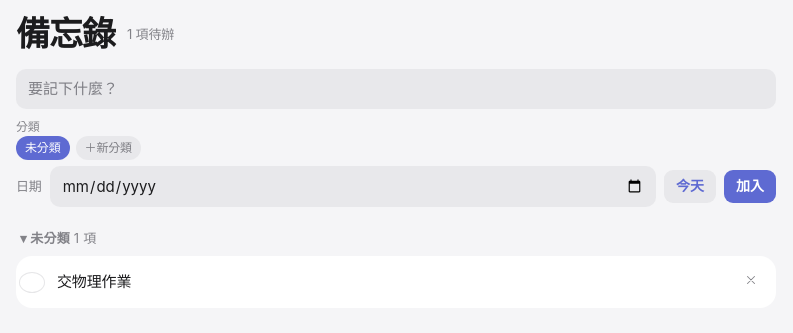
Test: 備忘錄刪除失敗復原 › DELETE 失敗後重讀仍存在時，項目不會假消失
This screenshot has width=793, height=333.
Click the button named "刪除「交物理作業」" at [751, 282], box [742,269,760,295]
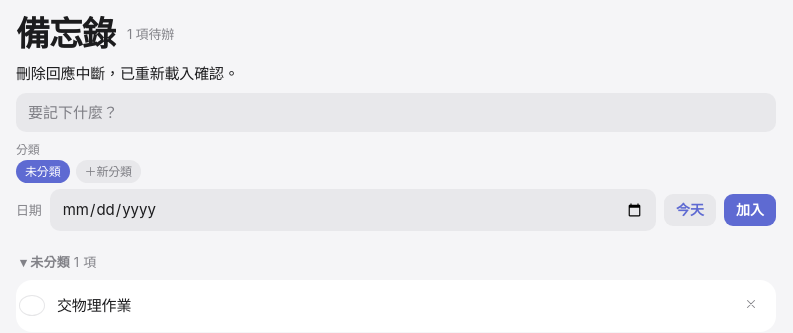
Expected: the text "交物理作業" is shown, [57,296,131,315]
Now the message shows "已重新載入確認", box [16,64,239,83]
